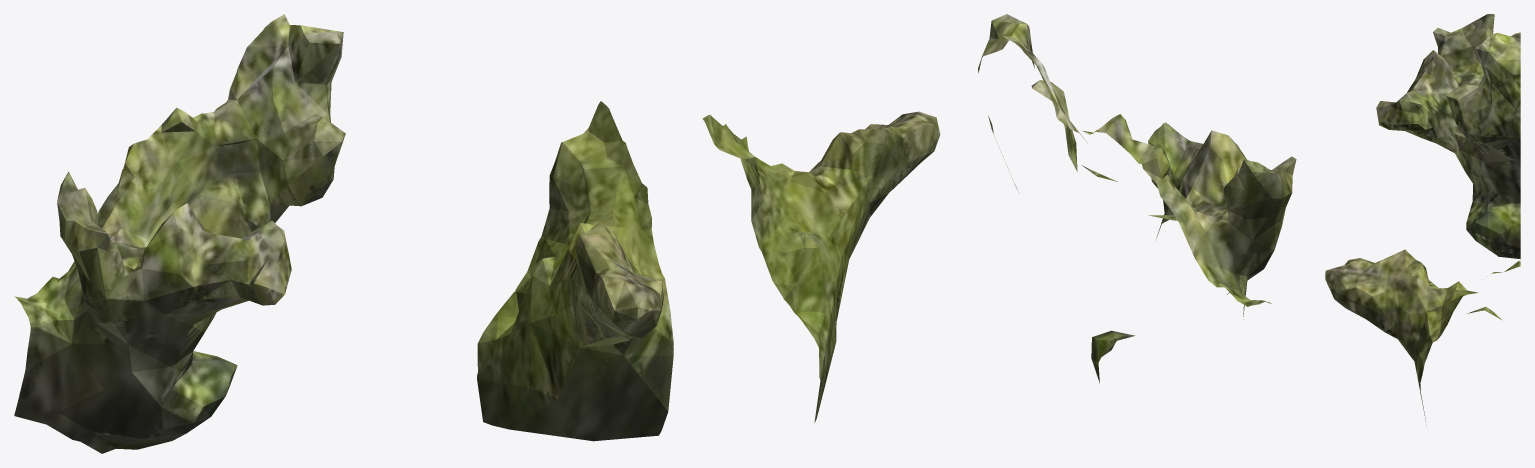
3 renders of one model, left to right at view 1: azimuth 30°, elevation 25°; view 2: azimuth 150°, elevation 25°; view 3: azimuth 270°, elevation 25°, orthographic. The views are drawn at different scales.
Size of the model in its own units: 2.95 by 2.2 by 1.24.
2 materials, 2 textured.
